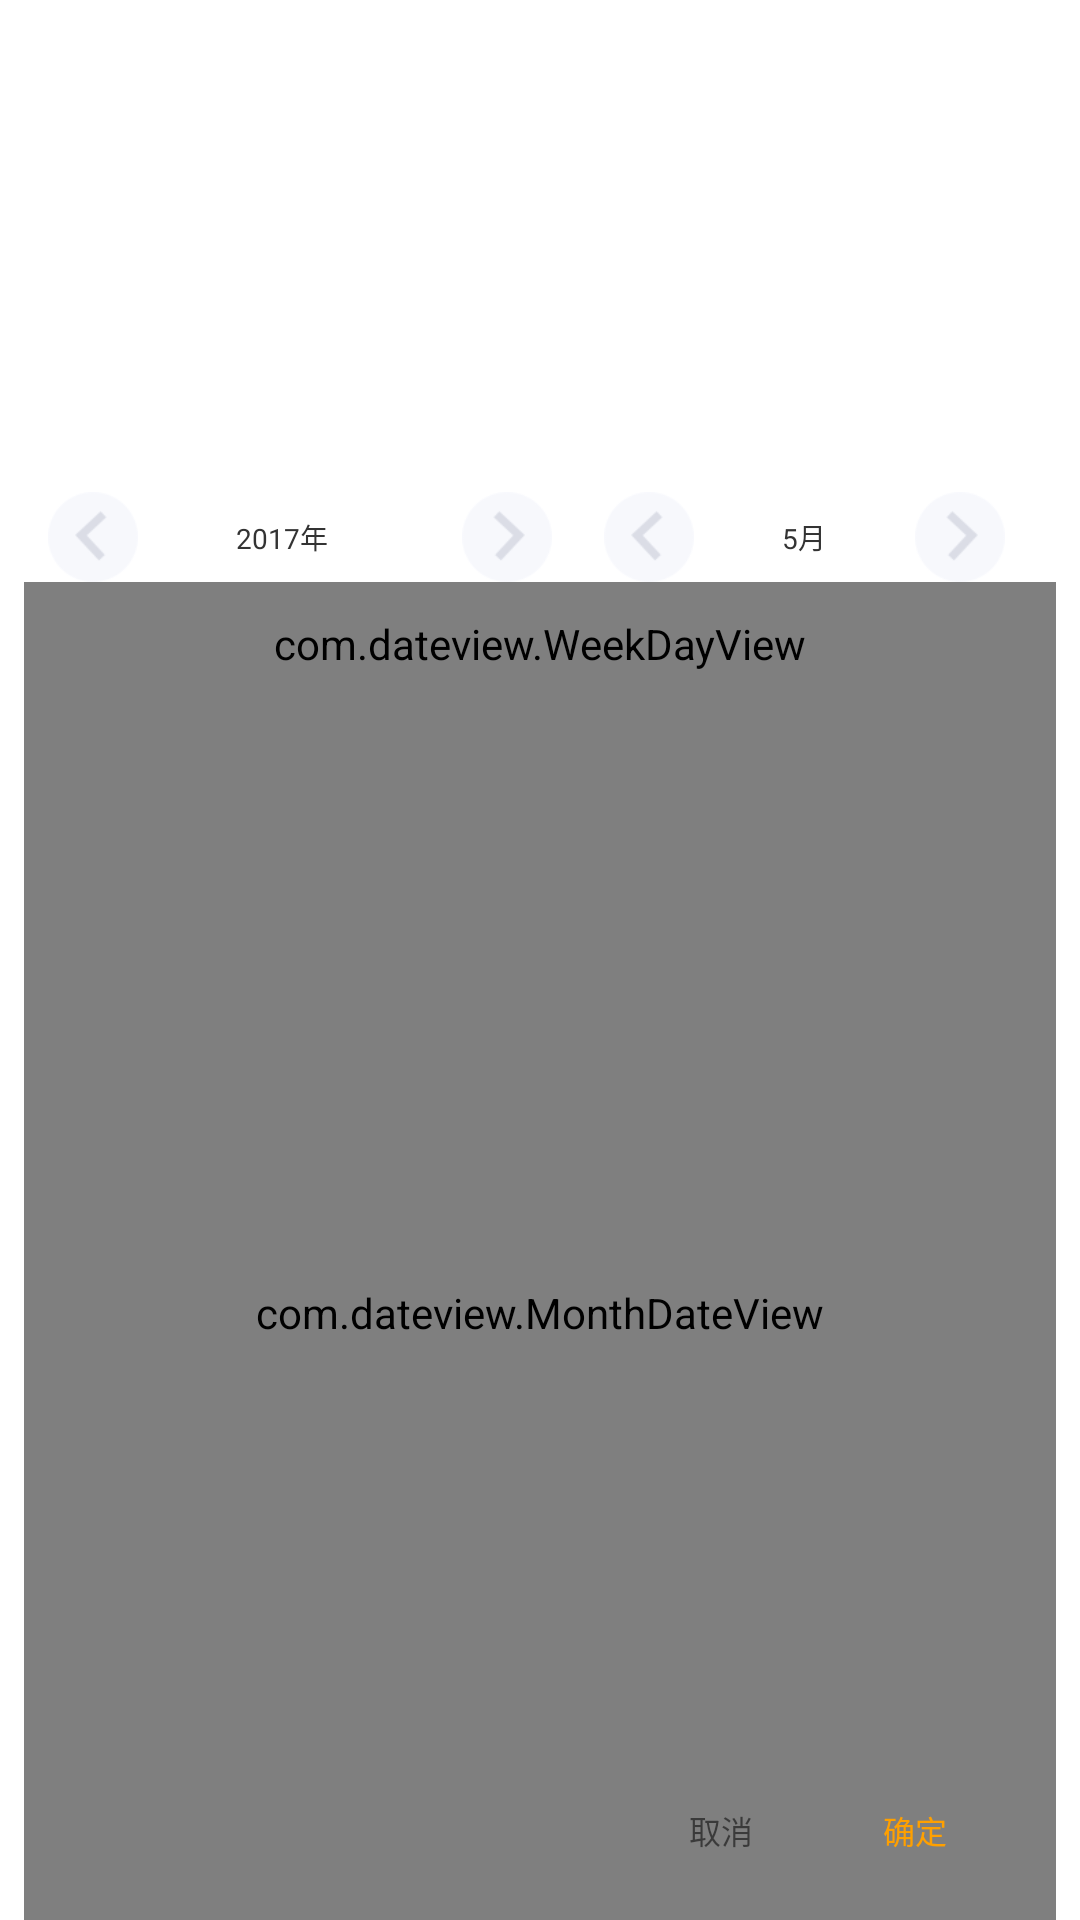

Screen size 1080 × 1920. Icon name, then its box in pixels as (x1,y1,x2,y2):
last: (76,512,105,560), (632,512,661,560)
next: (495,512,524,560), (948,512,977,560)
